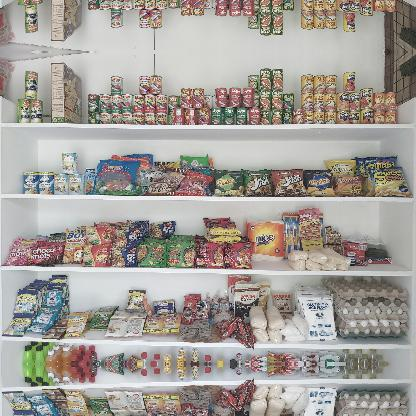Koko-Krunch: (50, 61, 82, 122), (50, 0, 82, 43)
